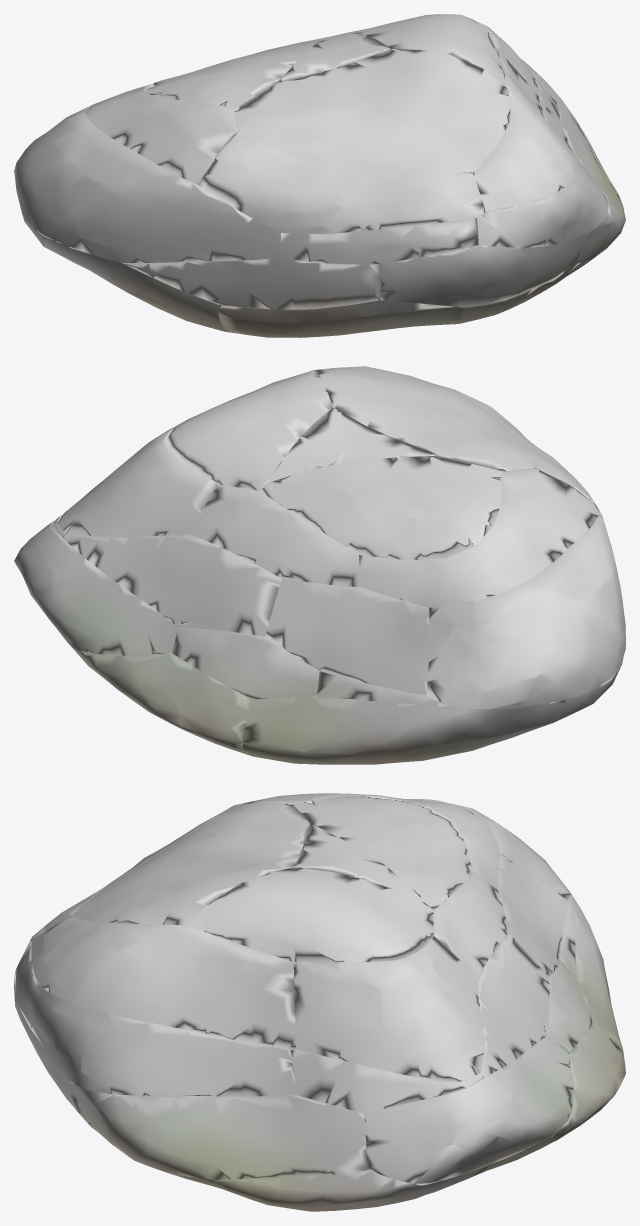
File: coal_rock_crumbs.glb
3 views of the same model, one above another, from view 1: azimuth 30°, elevation 25°; view 2: azimuth 150°, elevation 25°; view 3: azimuth 270°, elevation 25° (orthographic). The views are drawn at different scales.
Visible parts, largest first — view 1: Crumb_16_c22, Crumb_16_c06, Crumb_23_c09, Crumb_23_c03, Crumb_23_c06, Crumb_16_c10, Crumb_16_c23, Crumb_10_c01, Crumb_28_c22, Crumb_23_c11, Crumb_16_c19, Crumb_23_c00 (+126 smaller); view 2: Crumb_02_c00, Crumb_02_c01, Crumb_16_c18, Crumb_01_c03, Crumb_16_c02, Crumb_02_c03, Crumb_16_c09, Crumb_14_c02, Crumb_25_c03, Crumb_15_c02, Crumb_02_c04, Crumb_16_c11 (+152 smaller); view 3: Crumb_07_c07, Crumb_07_c03, Crumb_18_c00, Crumb_24_c02, Crumb_25_c02, Crumb_24_c11, Crumb_12_c10, Crumb_25_c05, Crumb_12_c00, Crumb_18_c03, Crumb_12_c07, Crumb_24_c01 (+124 smaller).
Part boxes in pixels (left/top/right/bottom): Crumb_16_c22: left=164, top=210, right=216, bottom=262; Crumb_16_c06: left=114, top=162, right=166, bottom=219; Crumb_23_c09: left=397, top=171, right=451, bottom=223; Crumb_23_c03: left=244, top=174, right=287, bottom=231; Crumb_23_c06: left=438, top=172, right=485, bottom=220; Crumb_16_c10: left=86, top=186, right=135, bottom=239; Crumb_16_c23: left=129, top=217, right=175, bottom=262; Crumb_10_c01: left=177, top=261, right=228, bottom=303; Crumb_28_c22: left=352, top=114, right=402, bottom=153; Crumb_23_c11: left=198, top=169, right=254, bottom=213; Crumb_16_c19: left=62, top=168, right=98, bottom=225; Crumb_23_c00: left=283, top=165, right=321, bottom=218; Crumb_02_c00: left=368, top=700, right=443, bottom=761; Crumb_02_c01: left=333, top=700, right=408, bottom=764; Crumb_16_c18: left=475, top=638, right=533, bottom=683; Crumb_01_c03: left=119, top=654, right=162, bottom=718; Crumb_16_c02: left=460, top=599, right=513, bottom=650; Crumb_02_c03: left=265, top=697, right=305, bottom=763; Crumb_16_c09: left=529, top=647, right=570, bottom=705; Crumb_14_c02: left=153, top=568, right=206, bottom=626; Crumb_25_c03: left=147, top=463, right=193, bottom=515; Crumb_15_c02: left=372, top=614, right=428, bottom=662; Crumb_02_c04: left=286, top=721, right=350, bottom=764; Crumb_16_c11: left=511, top=604, right=556, bottom=654; Crumb_07_c07: left=399, top=1128, right=469, bottom=1183; Crumb_07_c03: left=436, top=1091, right=492, bottom=1166; Crumb_18_c00: left=64, top=1009, right=124, bottom=1081; Crumb_24_c02: left=236, top=953, right=294, bottom=1003; Crumb_25_c02: left=354, top=973, right=414, bottom=1026; Crumb_24_c11: left=166, top=932, right=216, bottom=990; Crumb_12_c10: left=162, top=1127, right=215, bottom=1178; Crumb_25_c05: left=313, top=994, right=373, bottom=1045; Crumb_12_c00: left=133, top=1113, right=185, bottom=1170; Crumb_18_c03: left=126, top=1047, right=183, bottom=1095; Crumb_12_c07: left=250, top=1125, right=299, bottom=1178; Crumb_24_c01: left=187, top=977, right=241, bottom=1034.
Bounding box in the file's own units: 2.82 × 1.2 × 2.43.
